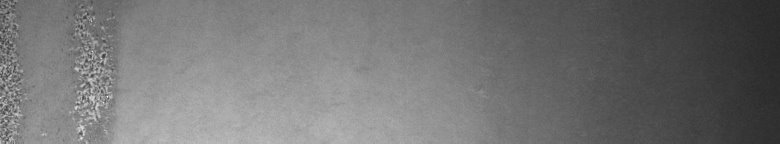hc: (4, 4, 119, 136)
